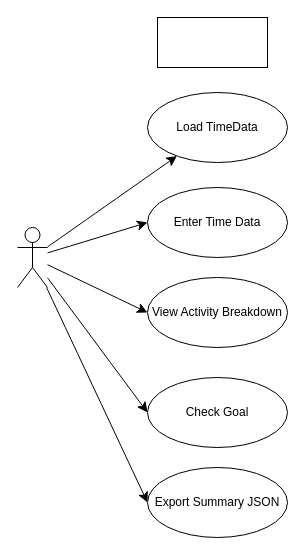
This 305x555 diagram has some shape labels left out. Each missing label, with the centre of its shape:
AI Time Management App: pixel 212 42
User: pixel 32 257
